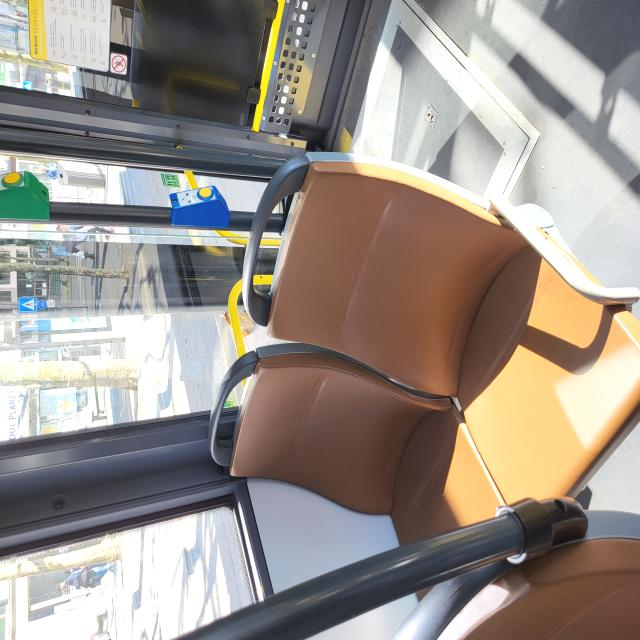asiento-libre: (96, 323, 367, 640), (68, 277, 222, 640)
